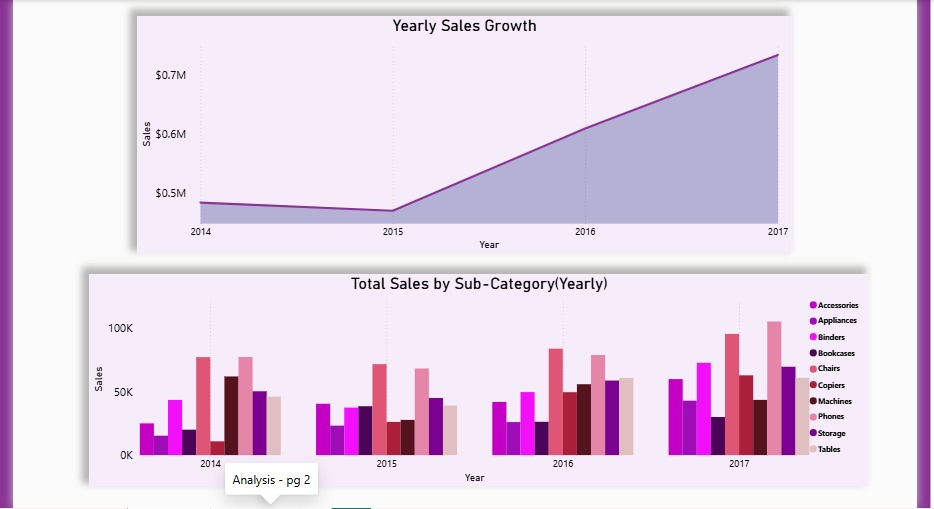

Layout of this report page (visuals, bound fields, positions):
{"tool":"powerbi","page":{"name":"Page-2","canvas":[1280,720],"ordinal":1},"visuals":[{"type":"lineChart","title":"Yearly Sales Growth","fields":{"Category":["Sample - Superstore.Order Date.Variation.Date Hierarchy.Year"],"Y":["Sum(Sample - Superstore.Sales)"]},"box":[175.7,22.7,928.3,337.3],"z":0},{"type":"clusteredColumnChart","title":"Total Sales by Sub-Category(Yearly)","fields":{"Category":["Sample - Superstore.Order Date.Variation.Date Hierarchy.Year"],"Y":["Sum(Sample - Superstore.Sales)"],"Series":["Sample - Superstore.Sub-Category"]},"box":[107.5,388,1105.3,300.7],"z":1000}]}

Visuals, with their boxes on the page's 1280x720 design canvas (x1, y1, x2, y2). These are canvas units, not pixel positions in the 934x509 screenshot, which may show the page scaled, cropped or inside an application window:
"Yearly Sales Growth" lineChart: locate(176, 23, 1104, 360)
"Total Sales by Sub-Category(Yearly)" clusteredColumnChart: locate(108, 388, 1213, 689)
